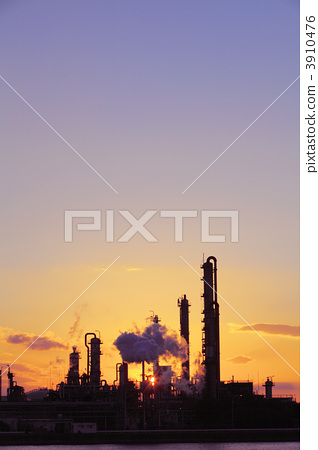dust: (91, 311, 205, 374)
